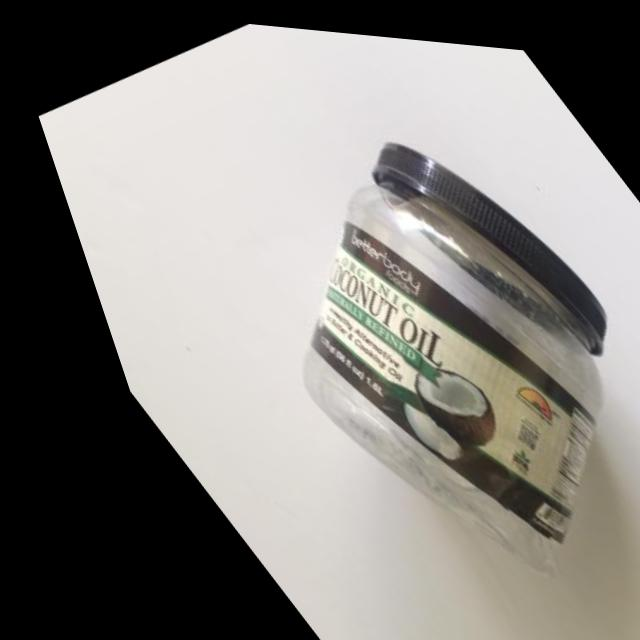plastic: (118, 67, 640, 638)
